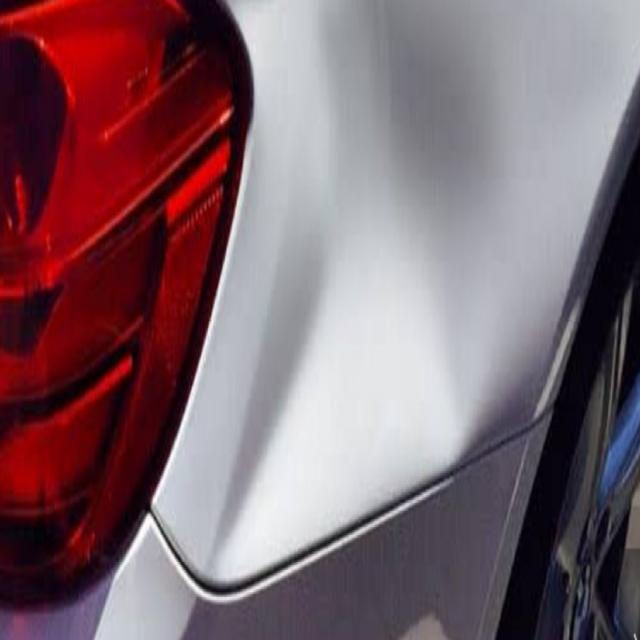dents: (277, 0, 498, 542)
